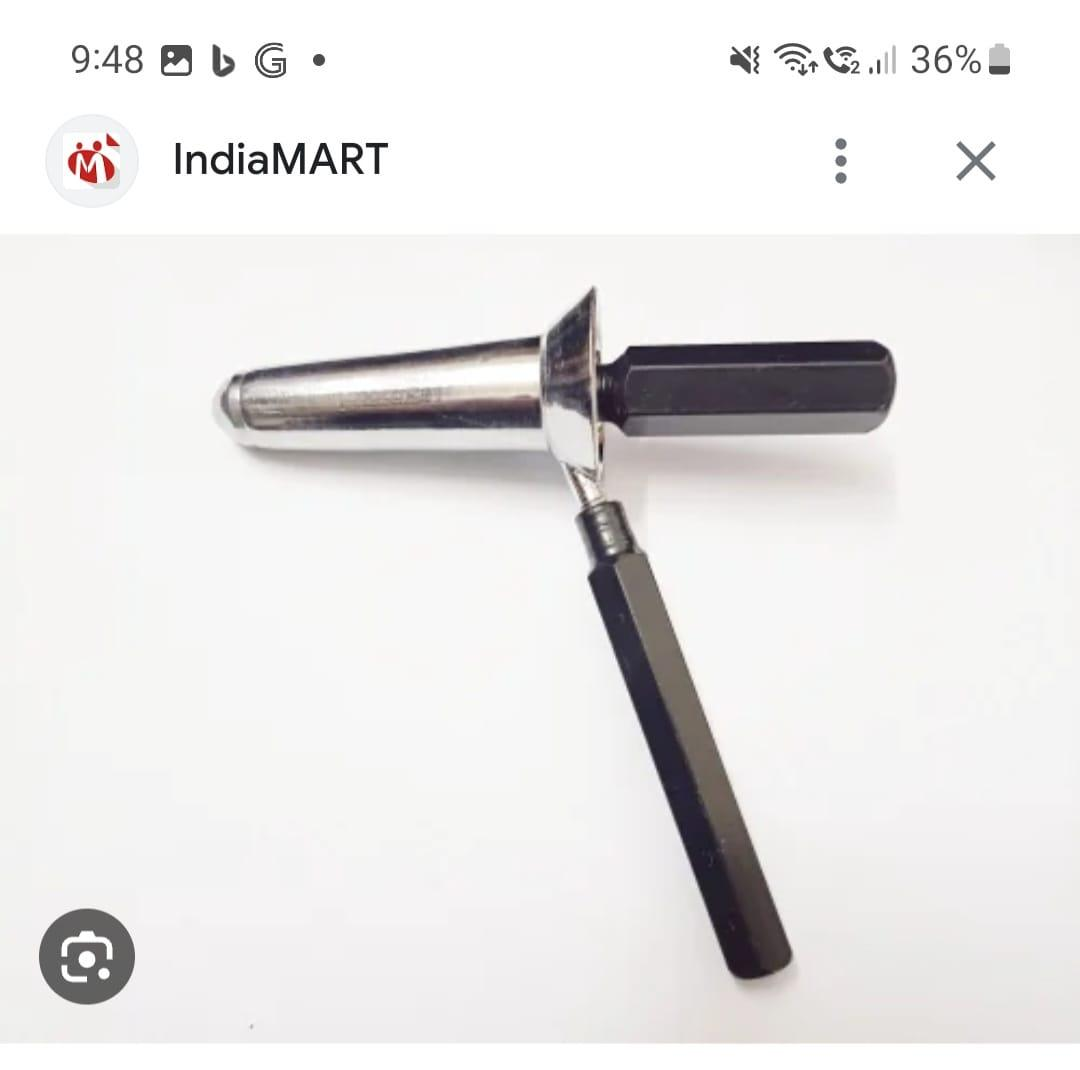Protoscope: (207, 277, 913, 987)
